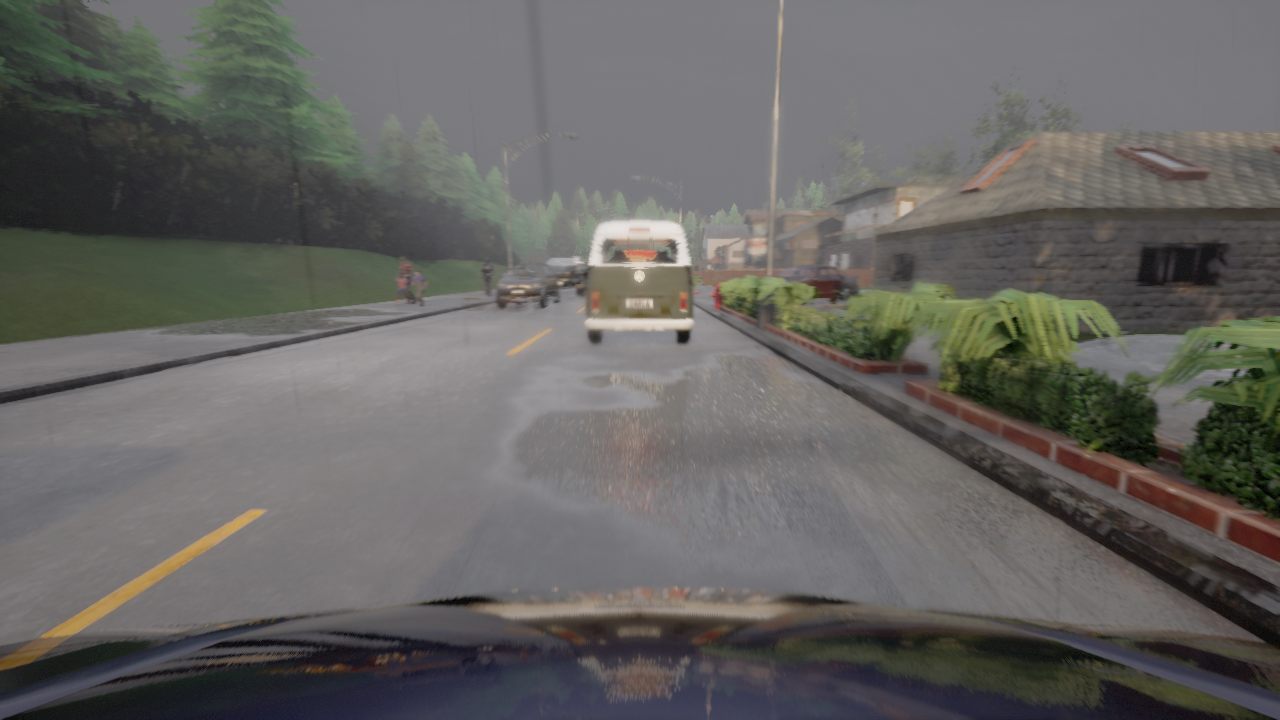cyclist: (0, 588, 1279, 719), (585, 221, 694, 344), (762, 265, 861, 305), (497, 264, 559, 308), (545, 257, 587, 296)
pedestrian: (397, 255, 415, 303), (412, 270, 426, 306), (395, 272, 410, 305), (482, 259, 494, 295)
